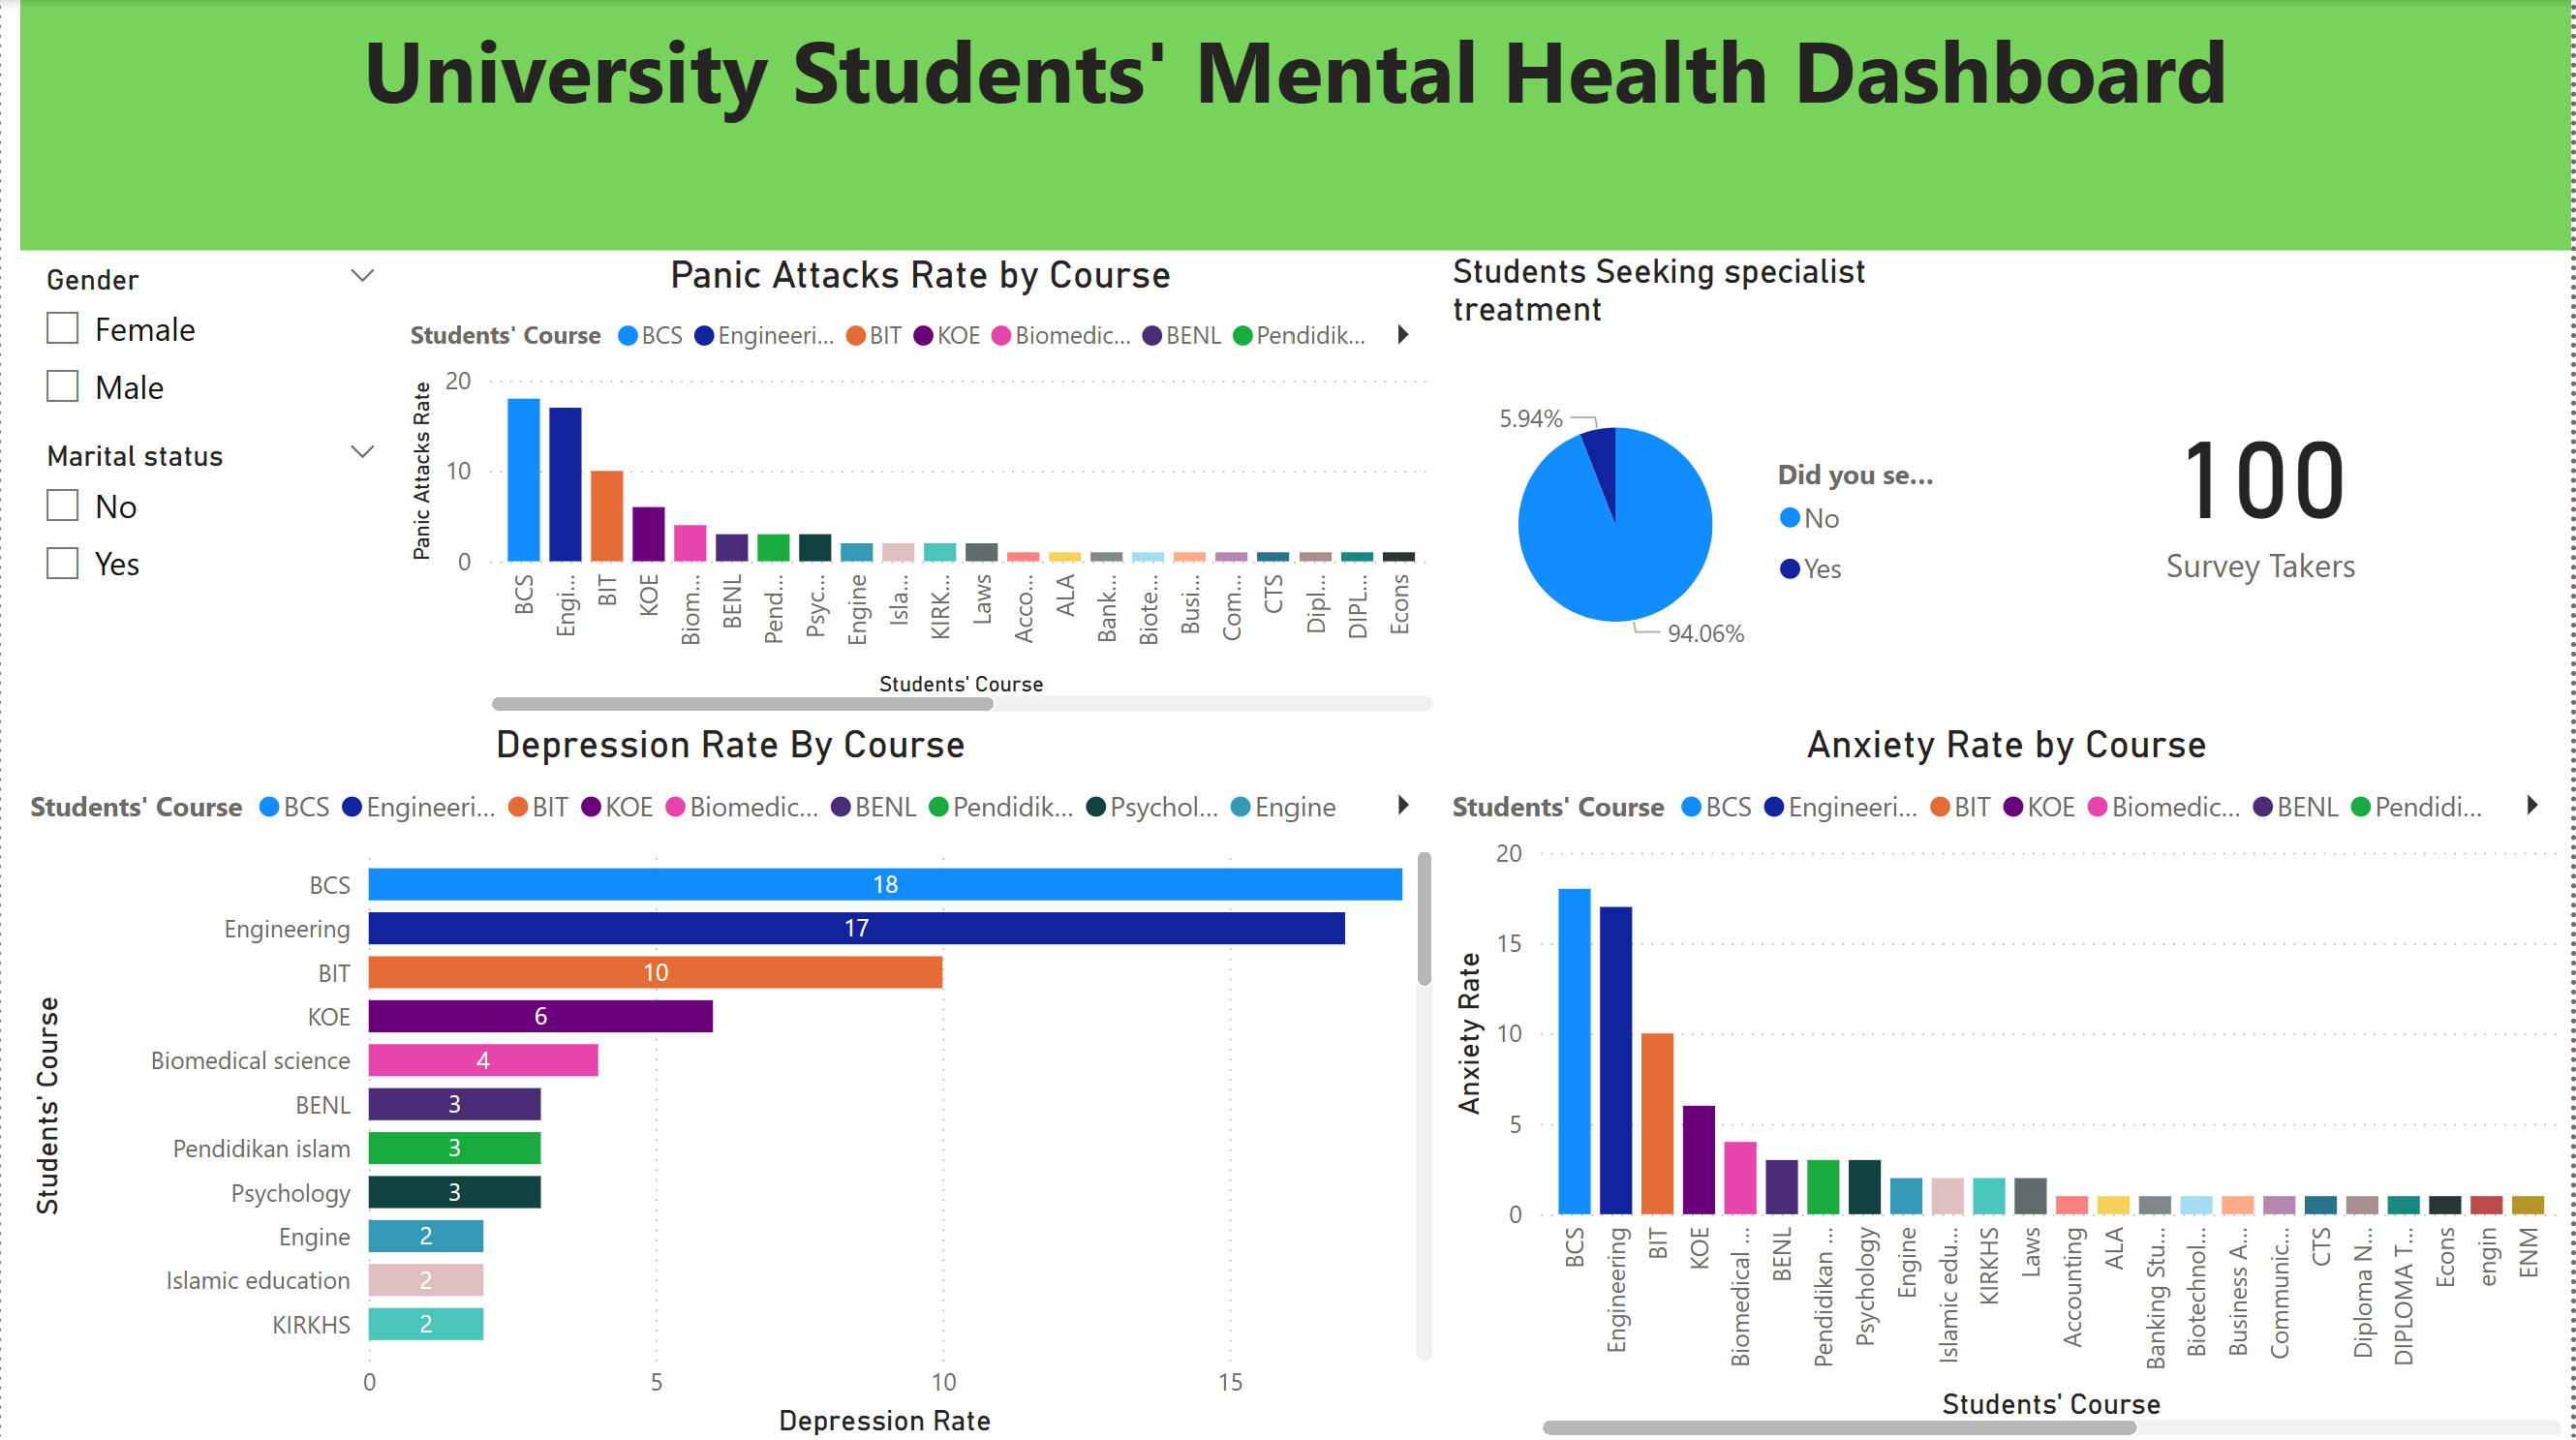

Layout of this report page (visuals, bound fields, positions):
{"tool":"powerbi","page":{"name":"Page 1","canvas":[1280,720],"ordinal":0},"visuals":[{"type":"textbox","box":[9.6,0,1270.7,124.9],"z":0},{"type":"slicer","fields":{"Values":["Student Mental health.Choose your gender"]},"box":[9.7,125.5,189.4,88.1],"z":1000},{"type":"slicer","fields":{"Values":["Student Mental health.Marital status"]},"box":[9.7,213.5,189.4,88.1],"z":2000},{"type":"barChart","title":"Depression Rate By Course","fields":{"Category":["Student Mental health.What is your course?"],"Y":["CountNonNull(Student Mental health.Do you have Depression?)"],"Series":["Student Mental health.What is your course?"]},"box":[9.6,359.5,708.1,360.9],"z":3000},{"type":"columnChart","title":"Anxiety Rate by Course","fields":{"Category":["Student Mental health.What is your course?"],"Y":["CountNonNull(Student Mental health.Do you have Anxiety?)"],"Series":["Student Mental health.What is your course?"]},"box":[717.7,359.5,562.6,360.9],"z":4000},{"type":"barChart","title":"Panic Attacks Rate by Course","fields":{"Category":["Student Mental health.What is your course?"],"Y":["CountNonNull(Student Mental health.Do you have Panic attack?)"],"Series":["Student Mental health.What is your course?"]},"box":[199.1,125.5,518.8,234],"z":5000},{"type":"card","fields":{"Values":["CountNonNull(Student Mental health.Age)"]},"box":[971.5,124.9,308.7,234.6],"z":6000},{"type":"pieChart","title":"Students Seeking specialist treatment","fields":{"Category":["Student Mental health.Did you seek any specialist for a treatment?"],"Y":["CountNonNull(Student Mental health.Did you seek any specialist for a treatment?)"]},"box":[718,125,254,234],"z":7000}]}

Visuals, with their boxes in screenshot pixels (x1, y1, x2, y2), scaled from the page's 1280x720 canvas onto the 2576x1440 screenshot:
textbox: (19,0,2575,250)
slicer - Student Mental health.Choose your gender: (19,251,401,427)
slicer - Student Mental health.Marital status: (19,427,401,603)
"Depression Rate By Course" barChart: (19,719,1444,1439)
"Anxiety Rate by Course" columnChart: (1444,719,2575,1439)
"Panic Attacks Rate by Course" barChart: (401,251,1445,719)
card - CountNonNull(Student Mental health.Age): (1955,250,2575,719)
"Students Seeking specialist treatment" pieChart: (1445,250,1956,718)
